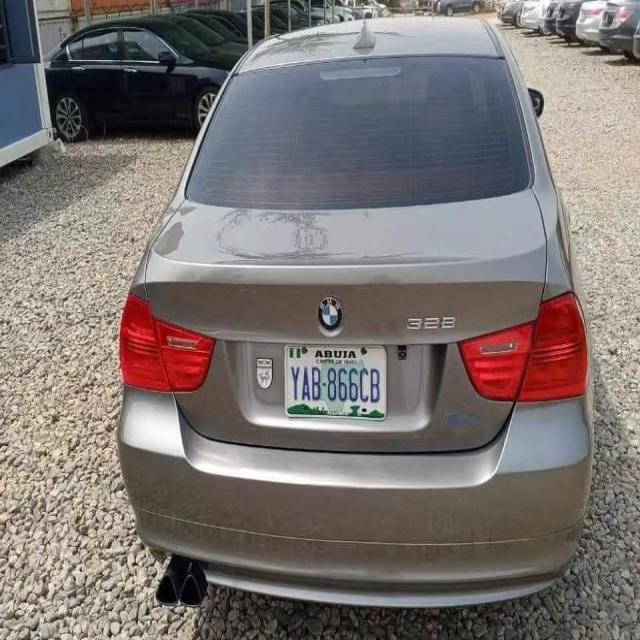Nigerian License Plate - vdataset benjamin-daria: (283, 340, 390, 427)
